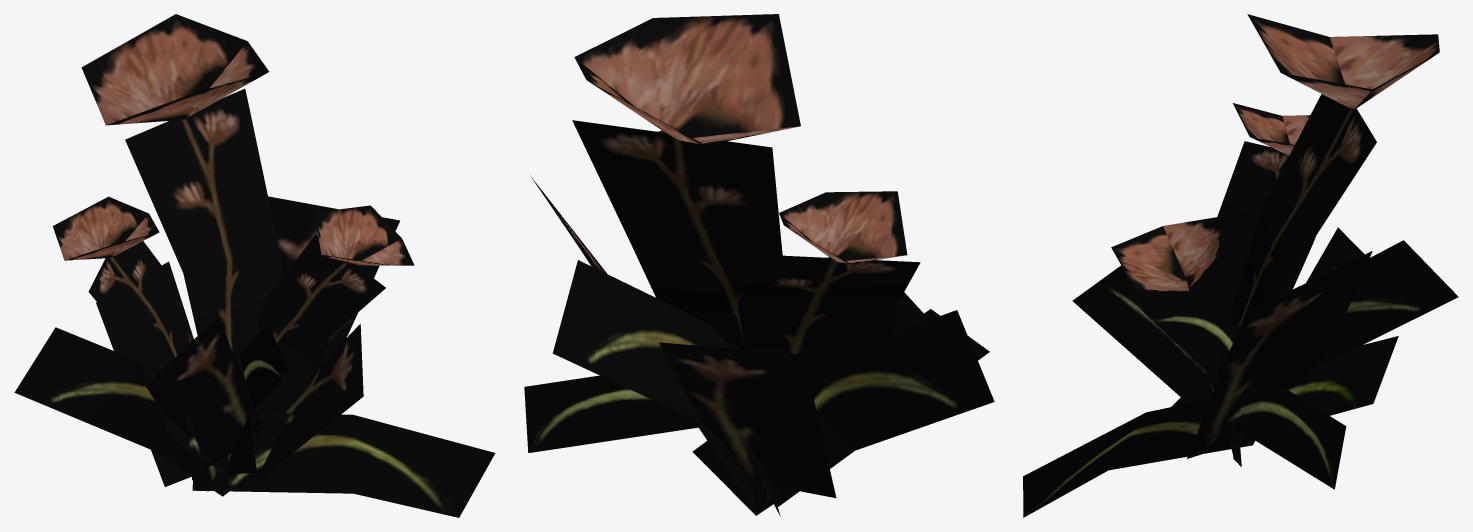
The model's file is FOL_BushB.FBX.
The picture shows the model from 3 angles, left to right: view 1: azimuth 30°, elevation 25°; view 2: azimuth 150°, elevation 25°; view 3: azimuth 270°, elevation 25°; orthographic projection. The views are drawn at different scales.
Parts seen in each view (by area): view 1: FOL_BushB; view 2: FOL_BushB; view 3: FOL_BushB.
Part boxes in pixels (<box>): FOL_BushB: <box>14,14,495,517</box>; FOL_BushB: <box>524,14,994,516</box>; FOL_BushB: <box>1023,14,1458,517</box>.
Bounding box in the file's own units: 361 × 371 × 331.
Materials: 1 (1 with a texture image).
